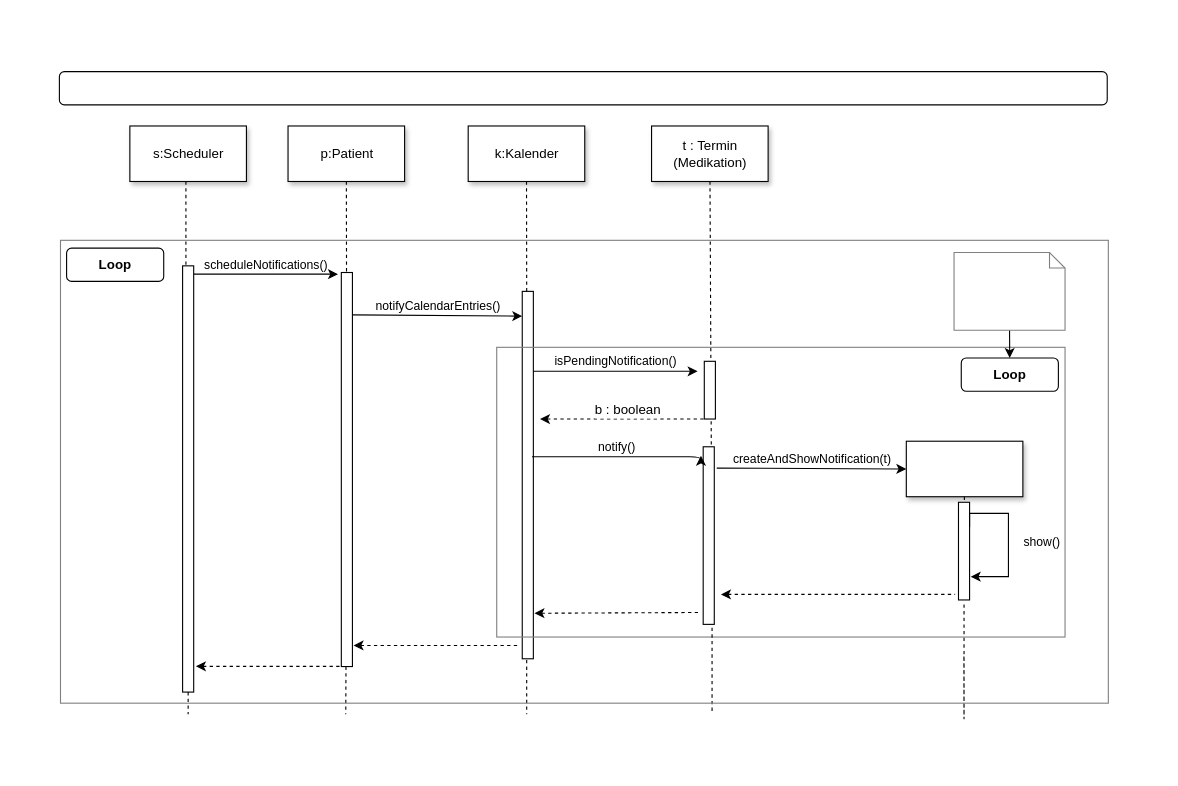
The diagram is 1178 pixels wide and 786 high, and some of its shapes have lost their labels. Here are the shapes that lost their labels. From the top down, the centre of each, then its label:
(582,87): Medikations-Notifikationen
(1009,290): Loop: for each element in the list of Termine
(965,470): n:Notifikation
